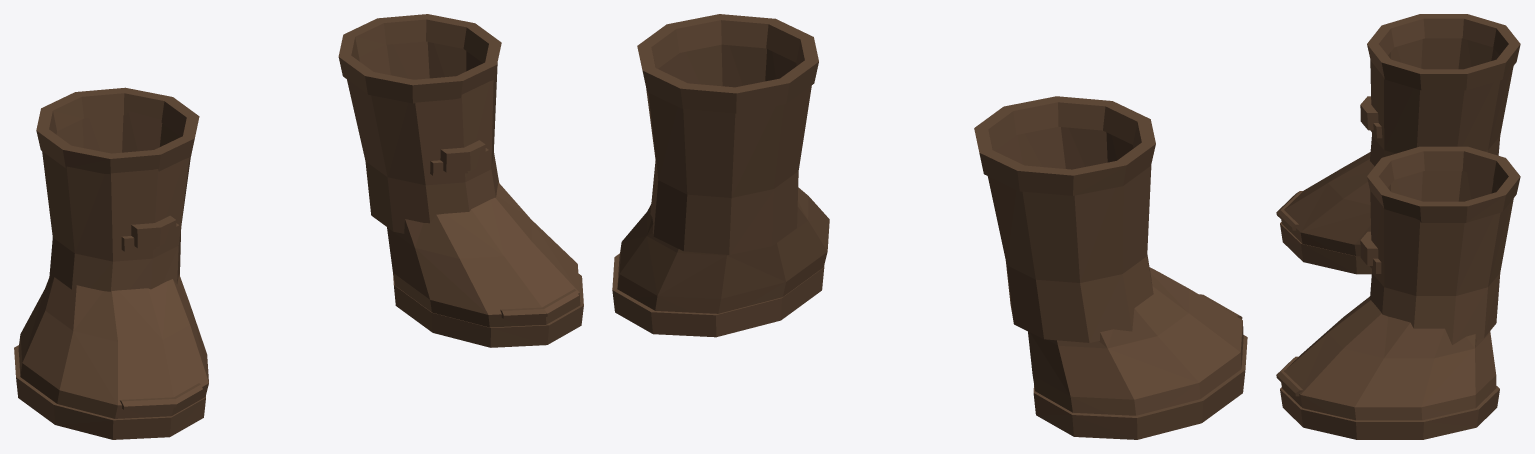
File: leather_feet-female-thickHide.glb
The picture shows the model from 3 angles, left to right: view 1: azimuth 30°, elevation 25°; view 2: azimuth 150°, elevation 25°; view 3: azimuth 270°, elevation 25°; orthographic projection. The views are drawn at different scales.
Visible parts, largest first — view 1: leather boot foot -1, leather boot upper 1, leather boot upper -1, leather boot foot 1, Turned boot cuff 1, Turned boot cuff -1, Boot sole -1, Boot sole 1, Heavy hide binding leather boot upper 1, Heavy hide binding leather boot upper -1, Boot toe welt -1, Boot toe welt 1; view 2: leather boot upper -1, leather boot upper 1, leather boot foot -1, leather boot foot 1, Turned boot cuff 1, Turned boot cuff -1, Boot sole -1, Boot sole 1; view 3: leather boot foot 1, leather boot upper 1, leather boot upper -1, Turned boot cuff -1, Turned boot cuff 1, leather boot foot -1, Boot sole 1, Boot sole -1, Heavy hide binding leather boot upper -1, Heavy hide binding leather boot upper 1, Boot toe welt 1, Boot toe welt -1.
Part boxes in pixels (x1,y1,x2,y2): leather boot foot -1: [18, 274, 208, 418]; leather boot upper 1: [347, 41, 499, 233]; leather boot upper -1: [42, 110, 190, 291]; leather boot foot 1: [387, 182, 580, 327]; Turned boot cuff 1: [338, 14, 501, 103]; Turned boot cuff -1: [36, 87, 199, 174]; Boot sole -1: [14, 345, 205, 439]; Boot sole 1: [393, 273, 583, 347]; Heavy hide binding leather boot upper 1: [440, 140, 485, 172]; Heavy hide binding leather boot upper -1: [131, 215, 176, 248]; Boot toe welt -1: [119, 383, 202, 409]; Boot toe welt 1: [500, 289, 578, 318]; leather boot upper -1: [987, 127, 1153, 342]; leather boot upper 1: [646, 44, 811, 254]; leather boot foot -1: [1028, 267, 1243, 415]; leather boot foot 1: [617, 187, 829, 313]; Turned boot cuff 1: [637, 14, 818, 113]; Turned boot cuff -1: [974, 96, 1155, 195]; Boot sole -1: [1033, 335, 1247, 439]; Boot sole 1: [612, 253, 824, 337]; leather boot foot 1: [1281, 296, 1496, 420]; leather boot upper 1: [1370, 170, 1513, 344]; leather boot upper -1: [1370, 38, 1513, 166]; Turned boot cuff -1: [1367, 14, 1520, 90]; Turned boot cuff 1: [1367, 146, 1520, 222]; leather boot foot -1: [1281, 152, 1374, 256]; Boot sole 1: [1280, 386, 1499, 439]; Boot sole -1: [1280, 222, 1371, 274]; Heavy hide binding leather boot upper -1: [1360, 96, 1378, 130]; Heavy hide binding leather boot upper 1: [1360, 231, 1378, 265]; Boot toe welt 1: [1276, 356, 1303, 396]; Boot toe welt -1: [1276, 191, 1302, 230].
Bounding box in the file's own units: 2.68 × 1.16 × 1.2.
